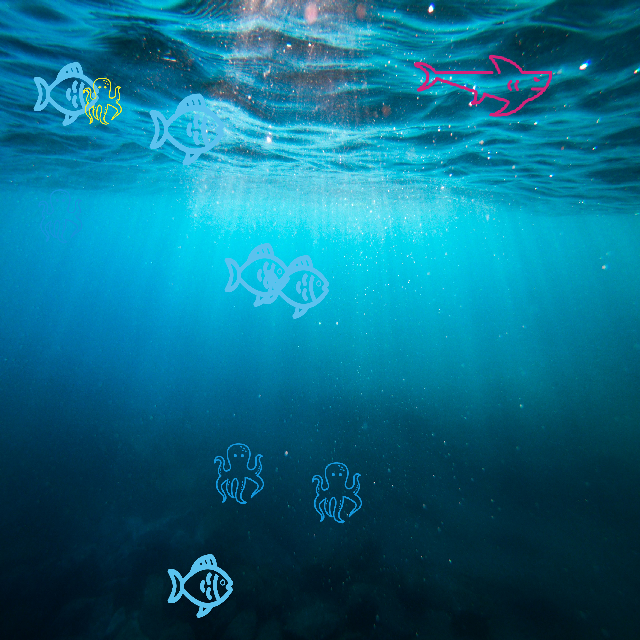target fish: (409, 53, 560, 118)
